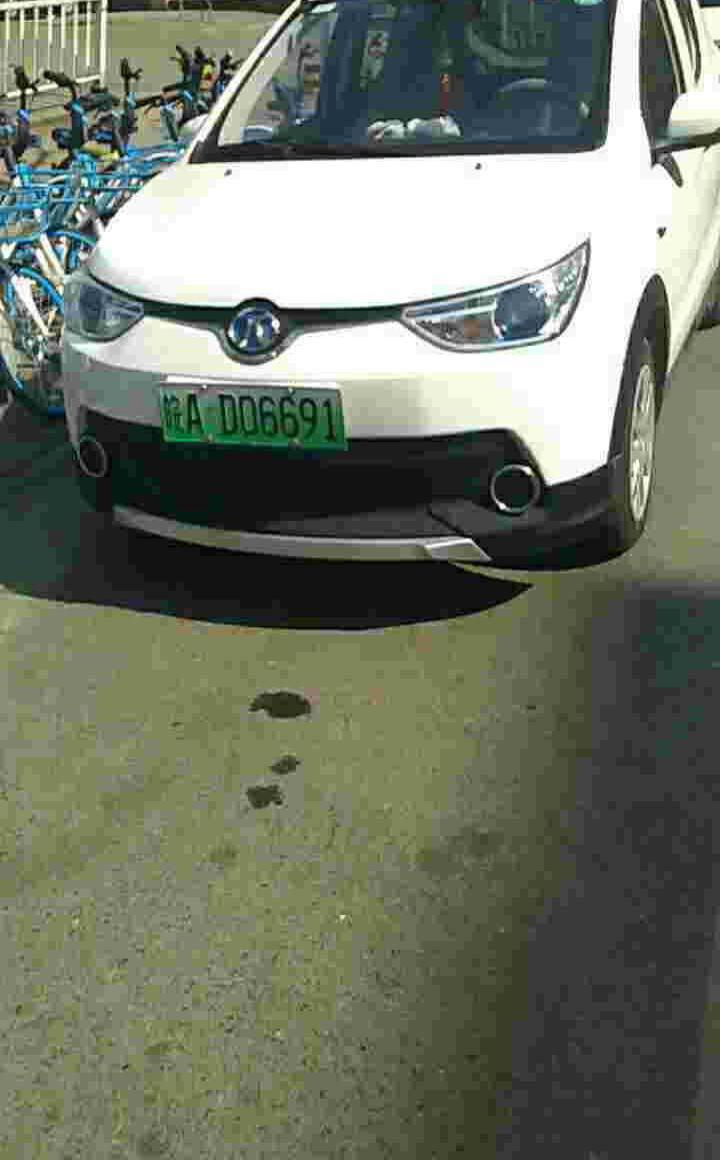car: (154, 379, 360, 459)
